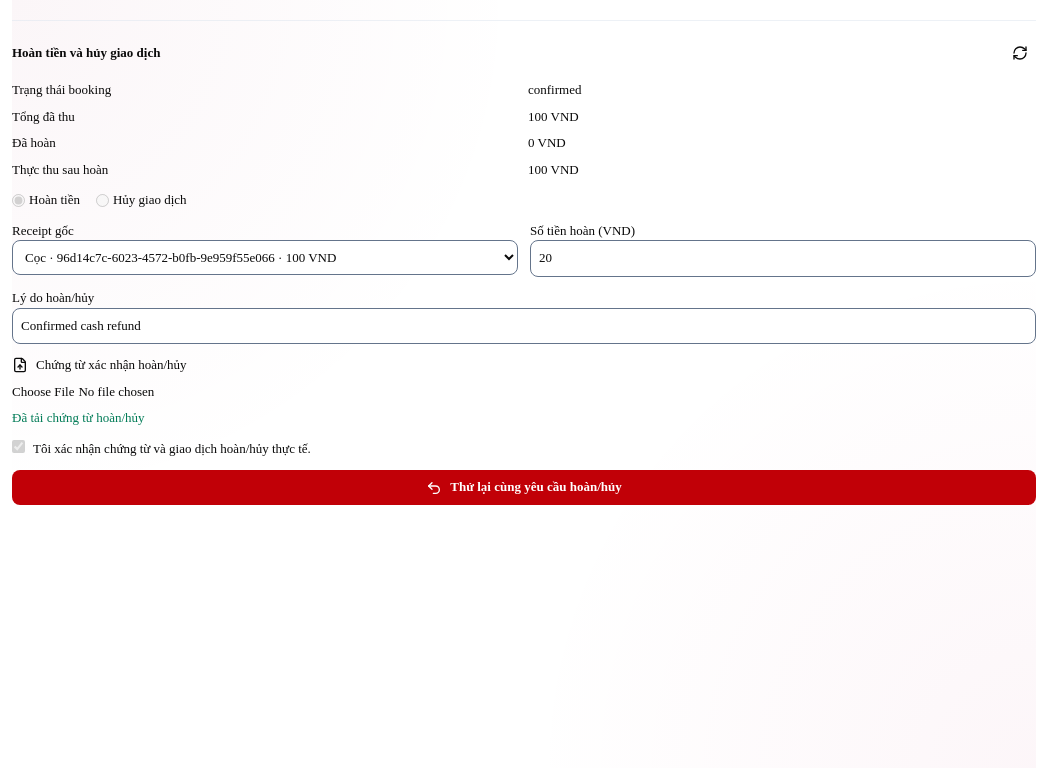
it: retains the exact pending intent through network failure and reconciles a duplicate acknowledgement
What coordinates should you click on to do the following:
click the button "Thử lại cùng yêu cầu hoàn/hủy"
I would click on:
 (524, 488)
Its box is [12, 470, 1036, 505].
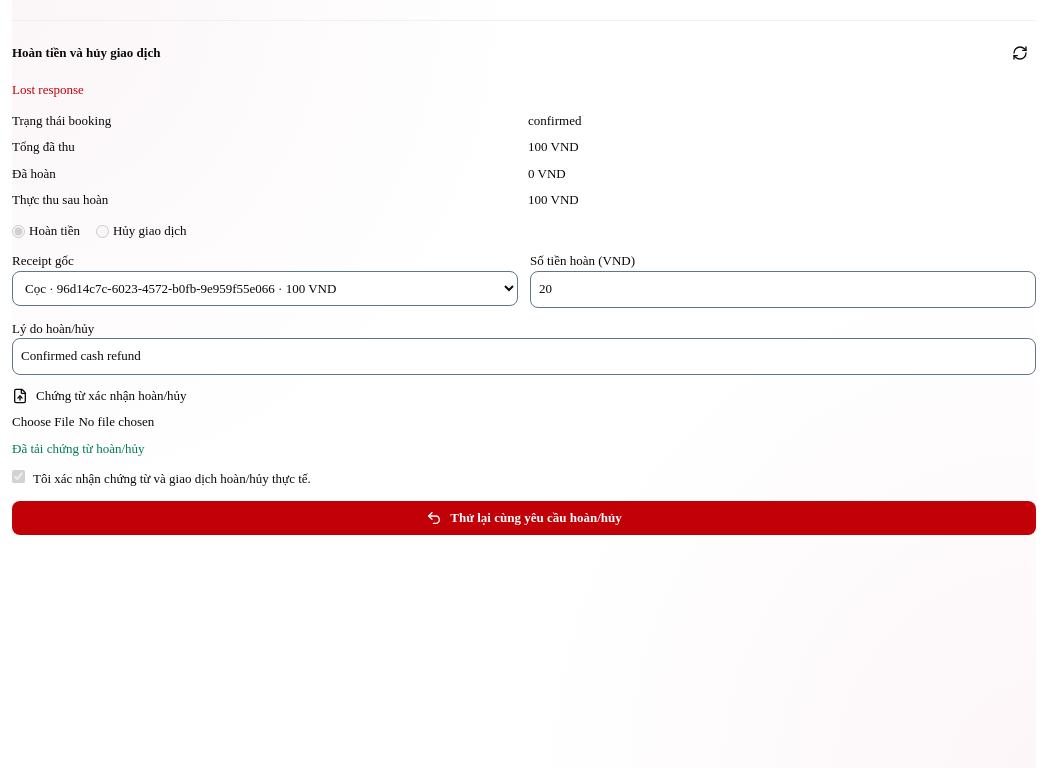
Now the message reads "Lost response", box [12, 82, 84, 97]
What coordinates should you click on to do the following:
click the button "Thử lại cùng yêu cầu hoàn/hủy"
I would click on:
 (524, 518)
Its box is [12, 501, 1036, 536].
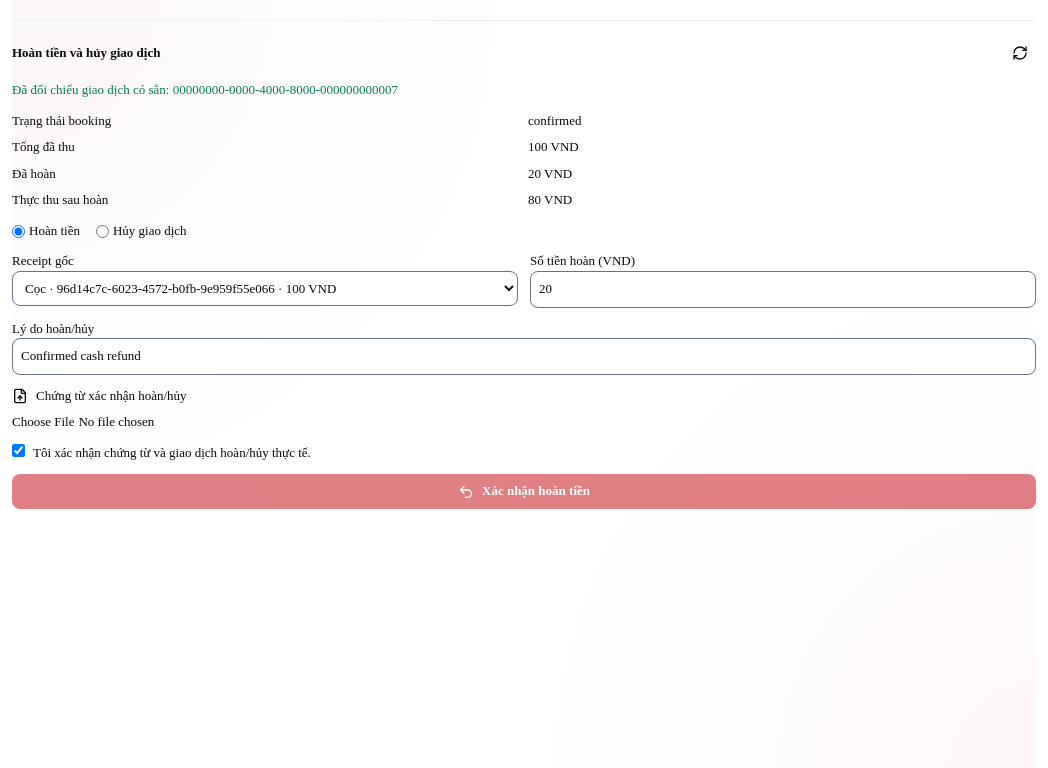
Now the text with test id "refund-net" reads "80 VND", box [528, 192, 572, 207]
